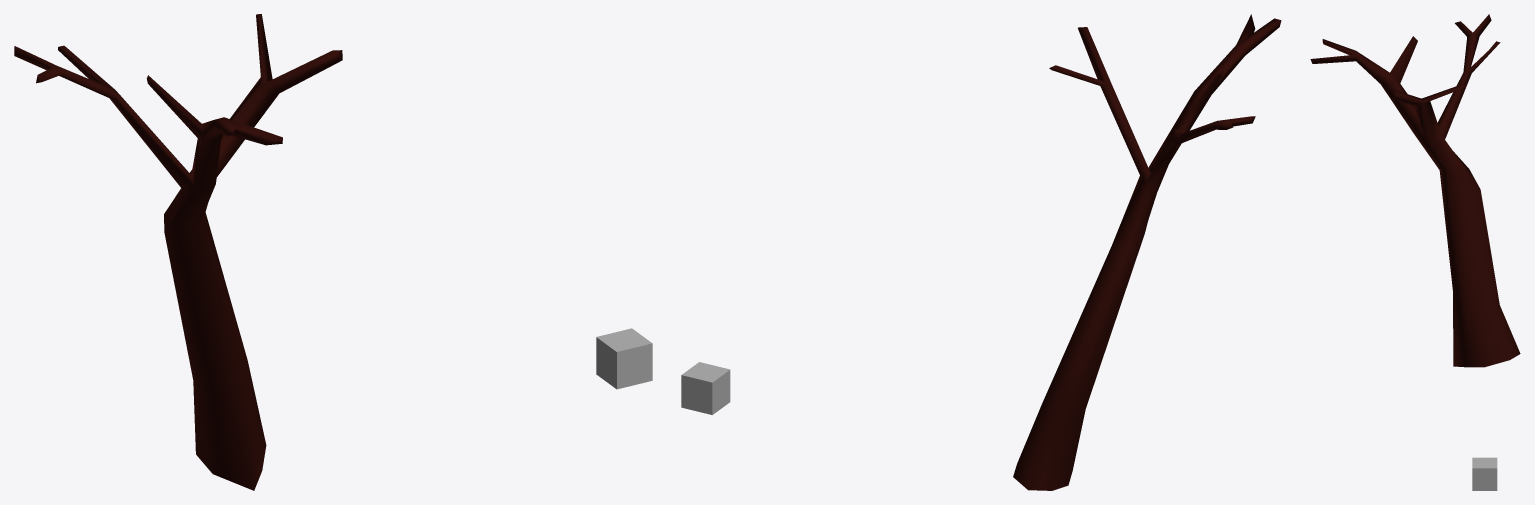
Rendered from low-poly-dead-tree.fbx.
The picture shows the model from 3 angles, left to right: view 1: azimuth 30°, elevation 25°; view 2: azimuth 150°, elevation 25°; view 3: azimuth 270°, elevation 25°; orthographic projection. The views are drawn at different scales.
Visible parts, largest first — view 1: Circle_Circle, Box; view 2: Circle_Circle, Box; view 3: Circle_Circle, Box.
Part boxes in pixels (bbox=[...]): Circle_Circle: bbox=[14, 14, 342, 490]; Box: bbox=[596, 328, 652, 389]; Circle_Circle: bbox=[1013, 14, 1281, 490]; Box: bbox=[681, 362, 730, 414]; Circle_Circle: bbox=[1310, 14, 1520, 367]; Box: bbox=[1472, 457, 1497, 490].
Bounding box in the file's own units: 17.53 × 12.76 × 8.35.
